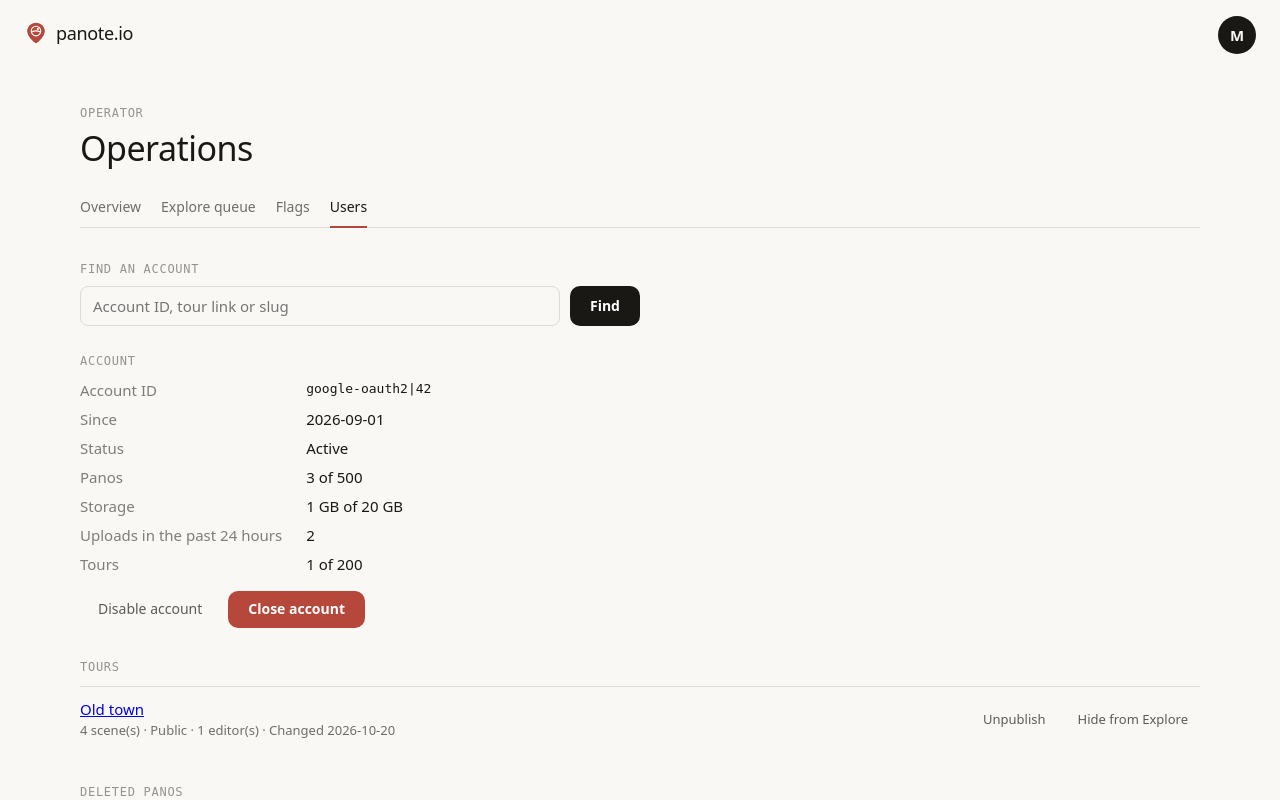
Test case: /app/ops/users › closes an account only once its ID is typed
Click the button "Close account" at (297, 610), box [228,591,365,628]
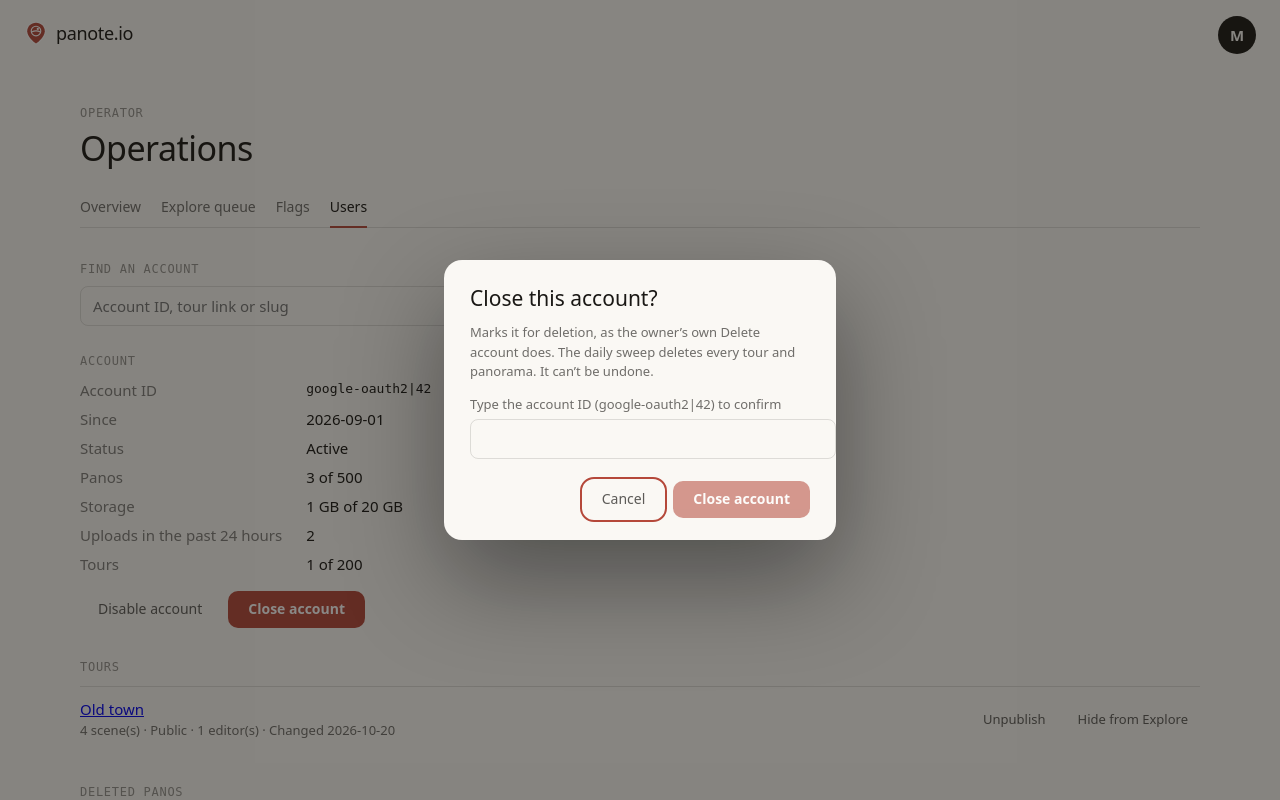
Type "nope" into the field labelled "Type the account ID (google-oauth2|42) to confirm" at (653, 439), box [470,419,836,459]
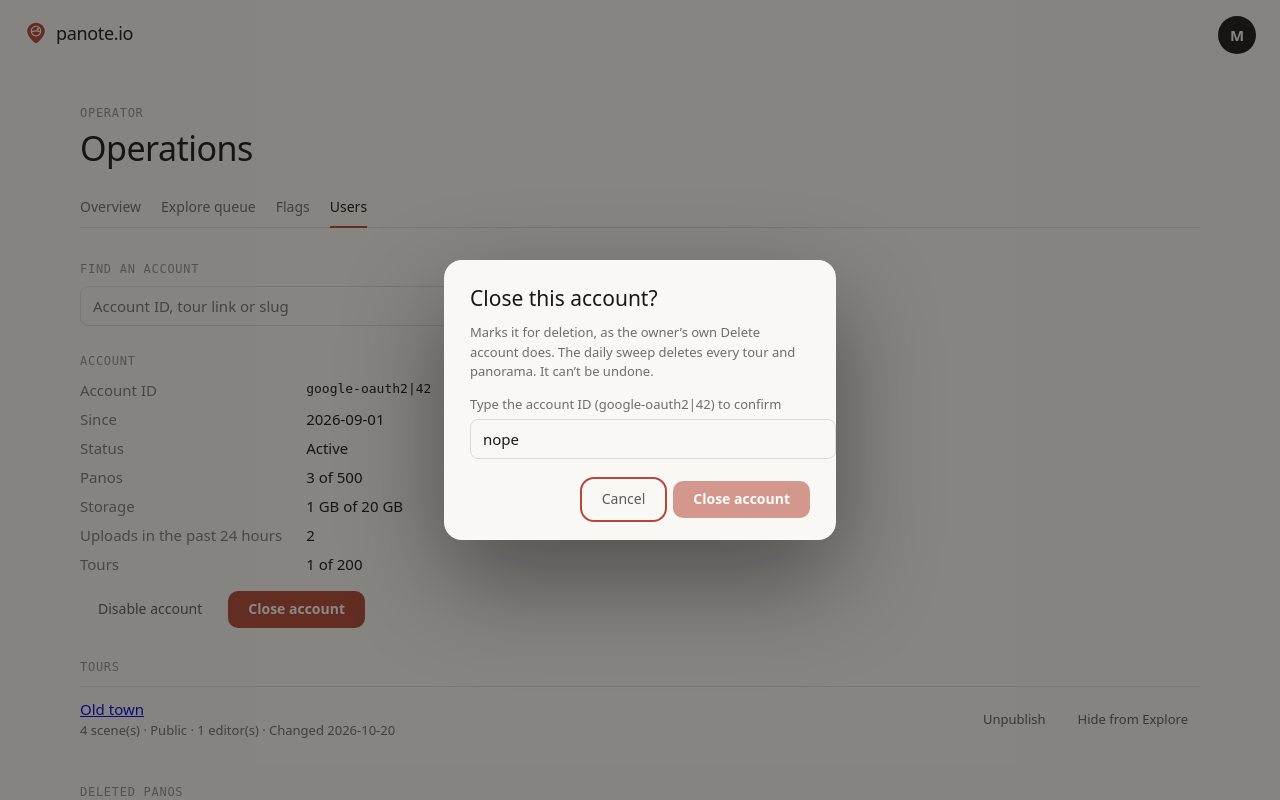
Expected: the button "Close account" is disabled, [673,481,810,518]
Replace the text in the field labelled "Type the account ID (google-oauth2|42) to confirm" with "google-oauth2|42" at (653, 439), box [470,419,836,459]
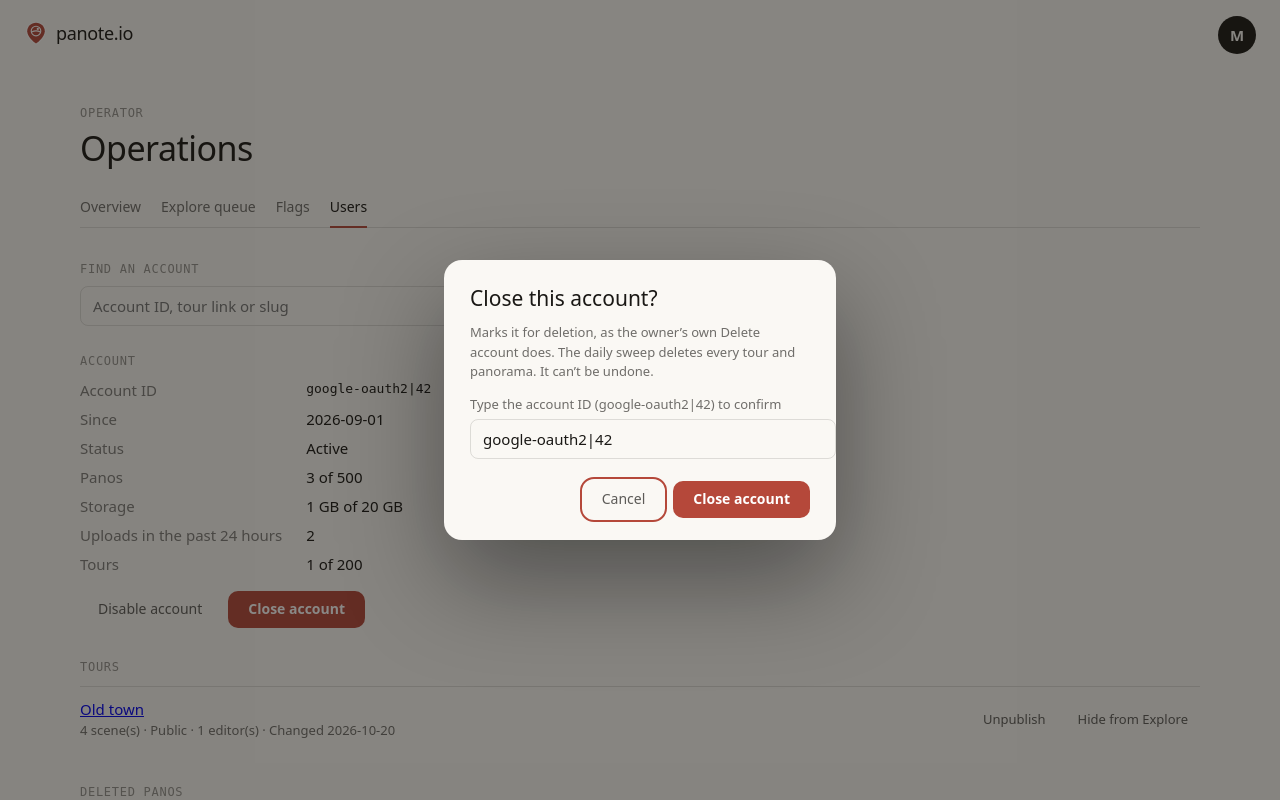
Click the button "Close account" at (742, 499), box [673,481,810,518]
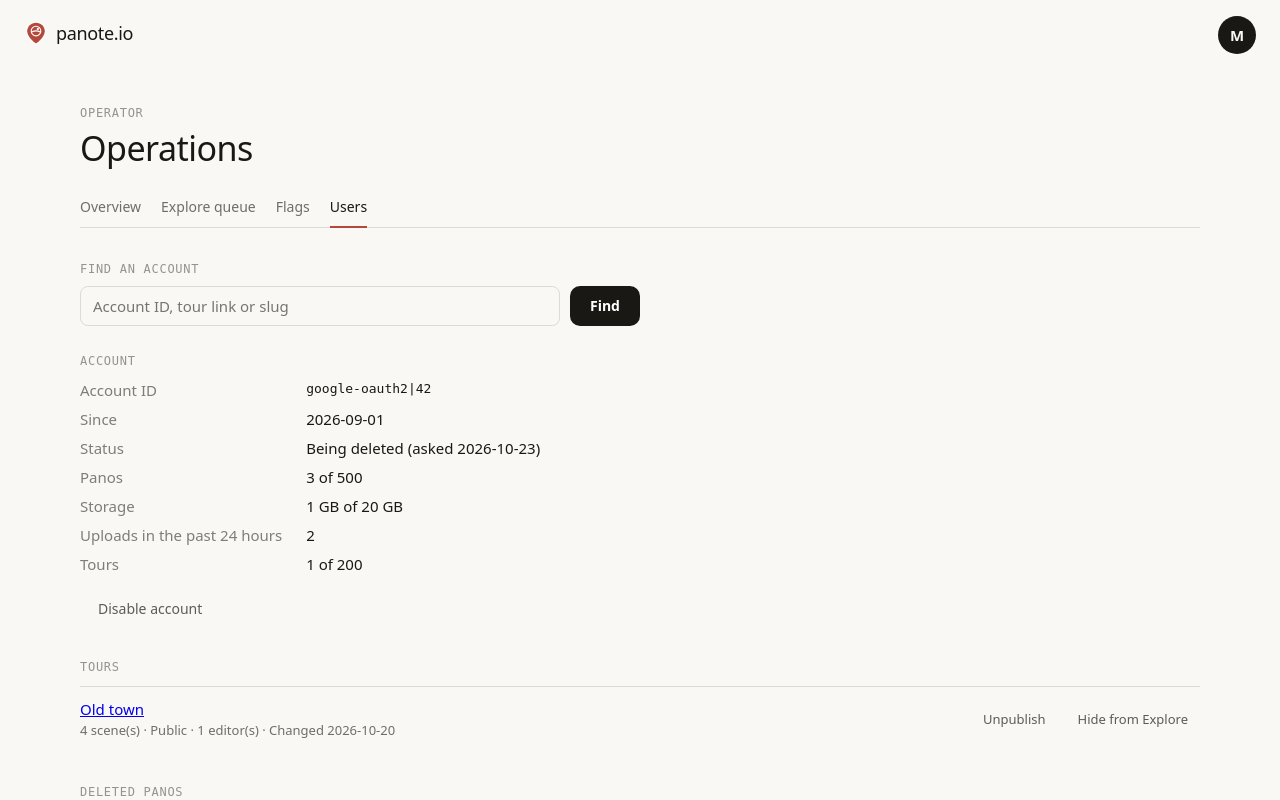
Expected: the text "Being deleted (asked 2026-10-23)" is shown, [306,438,540,458]
